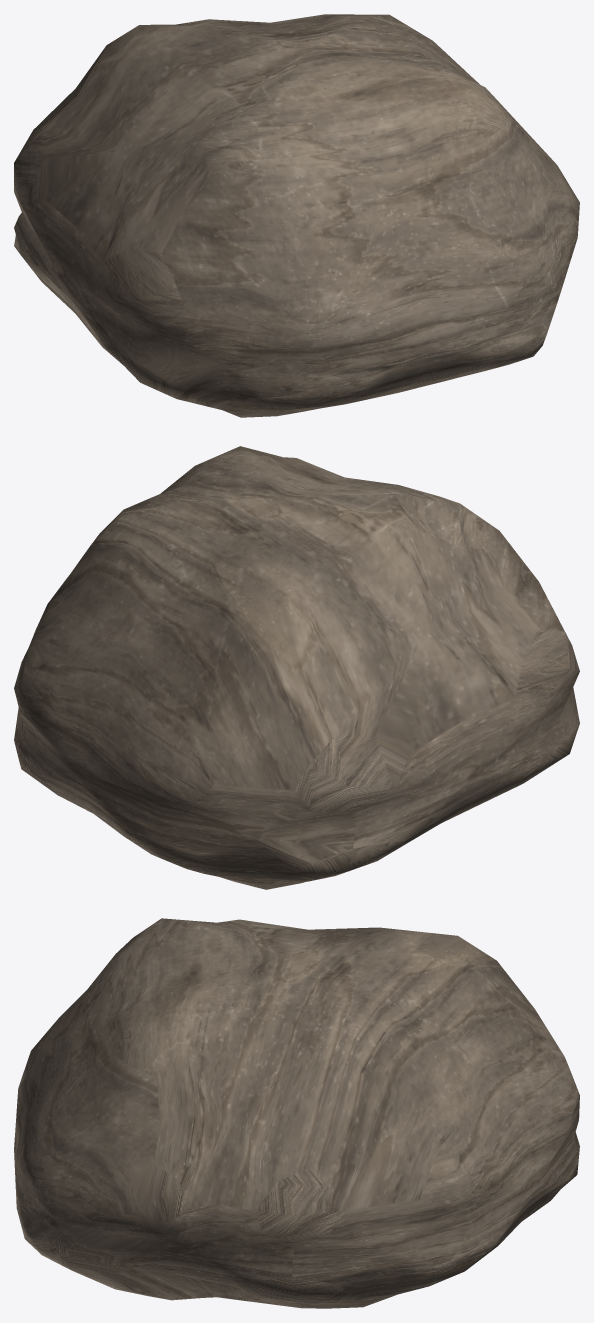
3 renders of one model, top to bottom at view 1: azimuth 30°, elevation 25°; view 2: azimuth 150°, elevation 25°; view 3: azimuth 270°, elevation 25°, orthographic. The views are drawn at different scales.
Visible parts, largest first — view 1: pCube2; view 2: pCube2; view 3: pCube2.
Part boxes in pixels (x1,y1,x2,y2): pCube2: (14, 14, 579, 417); pCube2: (14, 446, 579, 889); pCube2: (14, 918, 579, 1308).
Size of the model in its own units: 2.58 by 1.66 by 2.82.
1 material, 1 textured.
